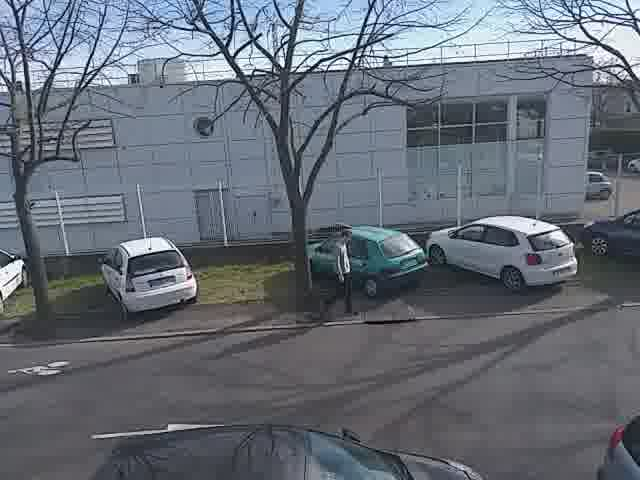persona: (314, 223, 368, 320)
